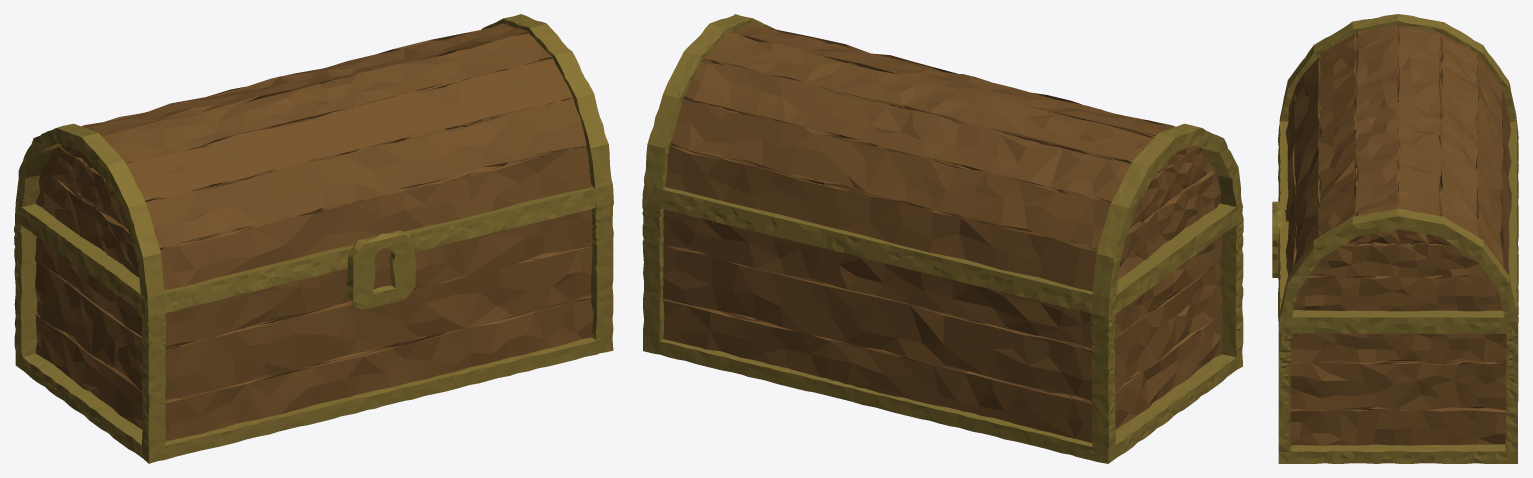
The model's file is chest.fbx.
3 views of the same model, side by side, from view 1: azimuth 30°, elevation 25°; view 2: azimuth 150°, elevation 25°; view 3: azimuth 270°, elevation 25° (orthographic). The views are drawn at different scales.
Visible parts, largest first — view 1: Chest, Chest.001; view 2: Chest, Chest.001; view 3: Chest, Chest.001.
Part boxes in pixels (x1,y1,x2,y2): Chest: (35, 23, 593, 441); Chest.001: (14, 14, 613, 463); Chest: (663, 22, 1222, 442); Chest.001: (642, 14, 1243, 463); Chest: (1285, 25, 1511, 445); Chest.001: (1272, 14, 1518, 463).
Size of the model in its own units: 350 by 200 by 180.
